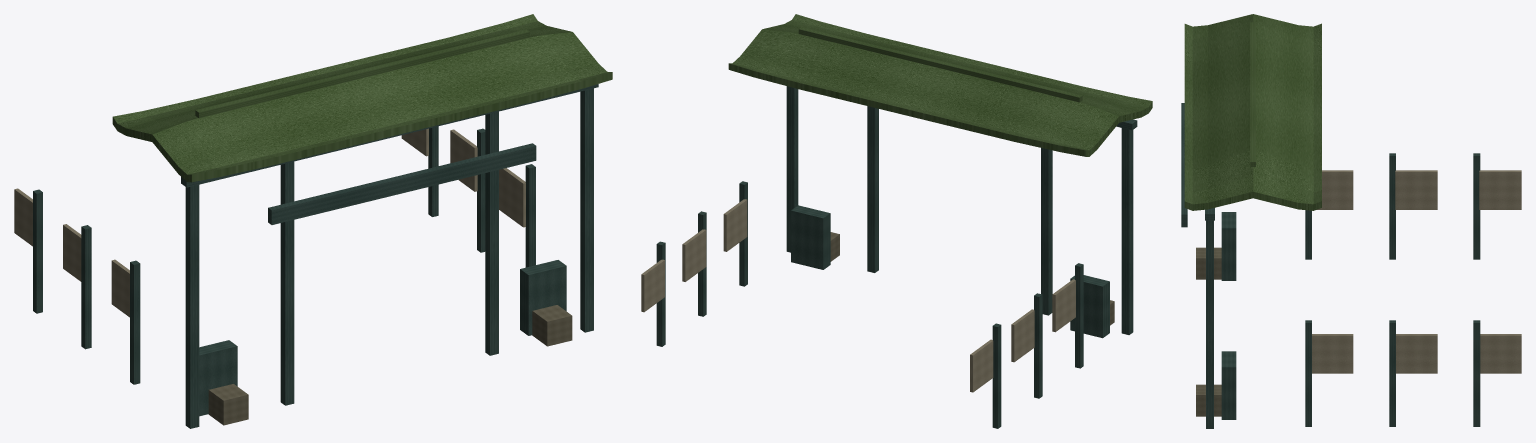
3 views of the same model, side by side, from view 1: azimuth 30°, elevation 25°; view 2: azimuth 150°, elevation 25°; view 3: azimuth 270°, elevation 25° (orthographic). The views are drawn at different scales.
Visible parts, largest first — view 1: garrison_part_0001, garrison_part_0002, garrison_part_0000; view 2: garrison_part_0001, garrison_part_0002, garrison_part_0000; view 3: garrison_part_0001, garrison_part_0002, garrison_part_0000.
Part boxes in pixels (left/top/right/bottom): garrison_part_0001: left=33, top=14, right=612, bottom=384; garrison_part_0002: left=14, top=29, right=566, bottom=416; garrison_part_0000: left=185, top=88, right=593, bottom=428; garrison_part_0001: left=656, top=14, right=1152, bottom=428; garrison_part_0002: left=641, top=27, right=1109, bottom=392; garrison_part_0000: left=786, top=86, right=1133, bottom=334; garrison_part_0001: left=1184, top=14, right=1480, bottom=426; garrison_part_0002: left=1181, top=22, right=1521, bottom=419; garrison_part_0000: left=1196, top=208, right=1221, bottom=428.
Size of the model in its own units: 925 by 608 by 748.
